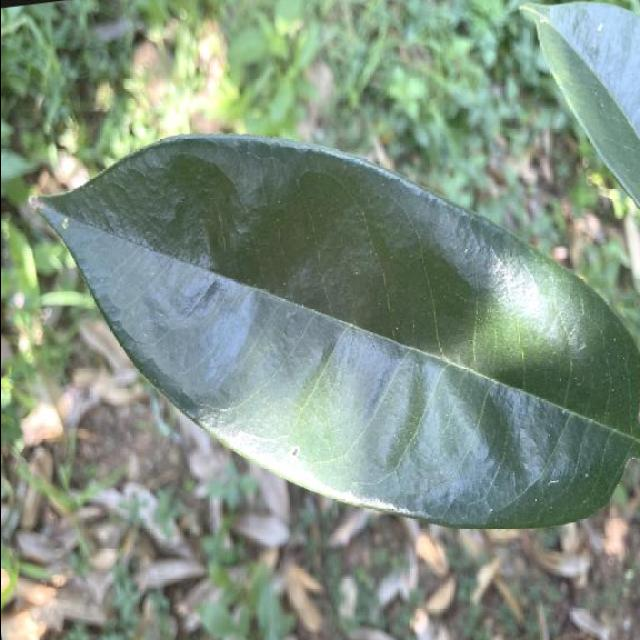No Disease: (9, 72, 640, 598)
